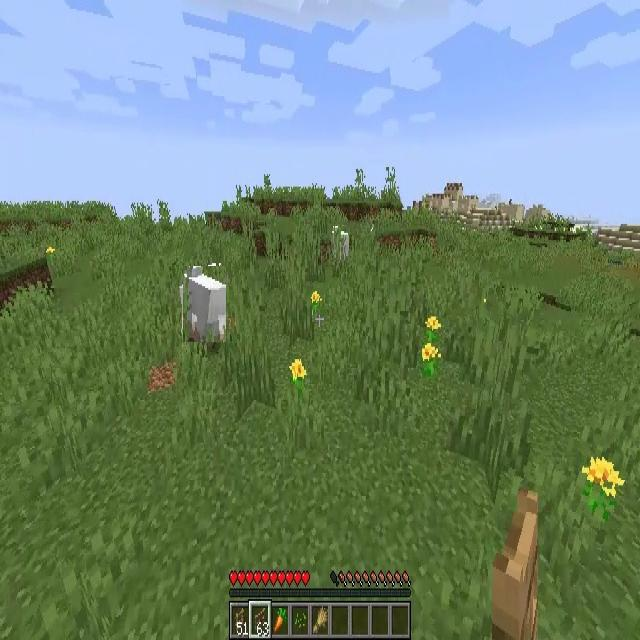flower: (580, 458, 625, 498), (422, 342, 438, 378), (425, 317, 441, 346), (290, 360, 306, 381), (312, 292, 320, 316)
sheep: (183, 266, 226, 342), (331, 226, 349, 260)
